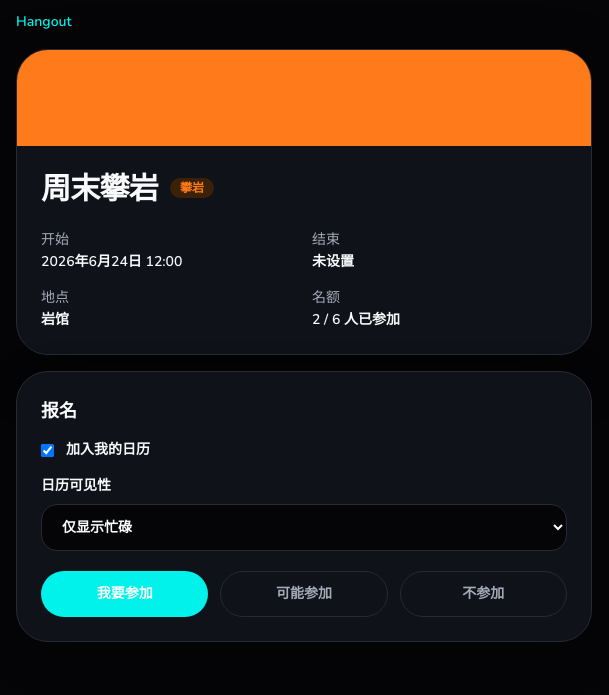
Test case: App › lets authenticated users submit an RSVP
This screenshot has width=609, height=695.
Click the button "我要参加". click: point(125, 594)
box: [41,571,208,617]
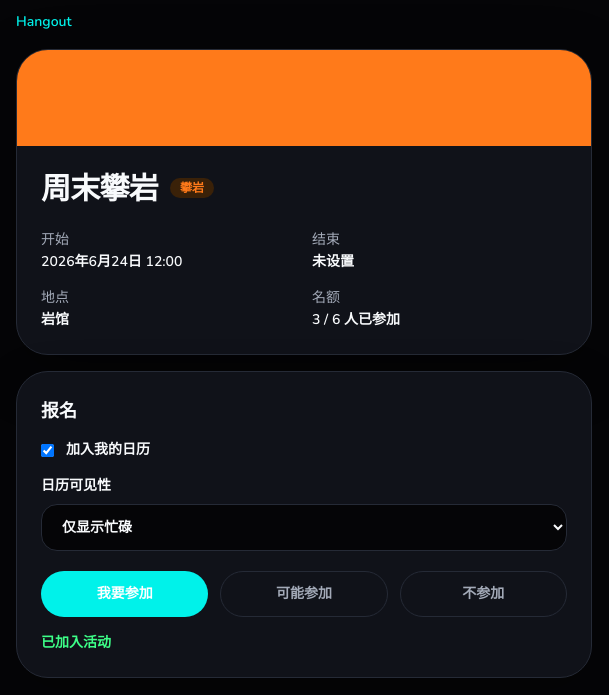
Result: the text "已加入活动" is shown at [41,633,111,652]
Result: the text "3 / 6 人已参加" is shown at [312,310,400,329]
